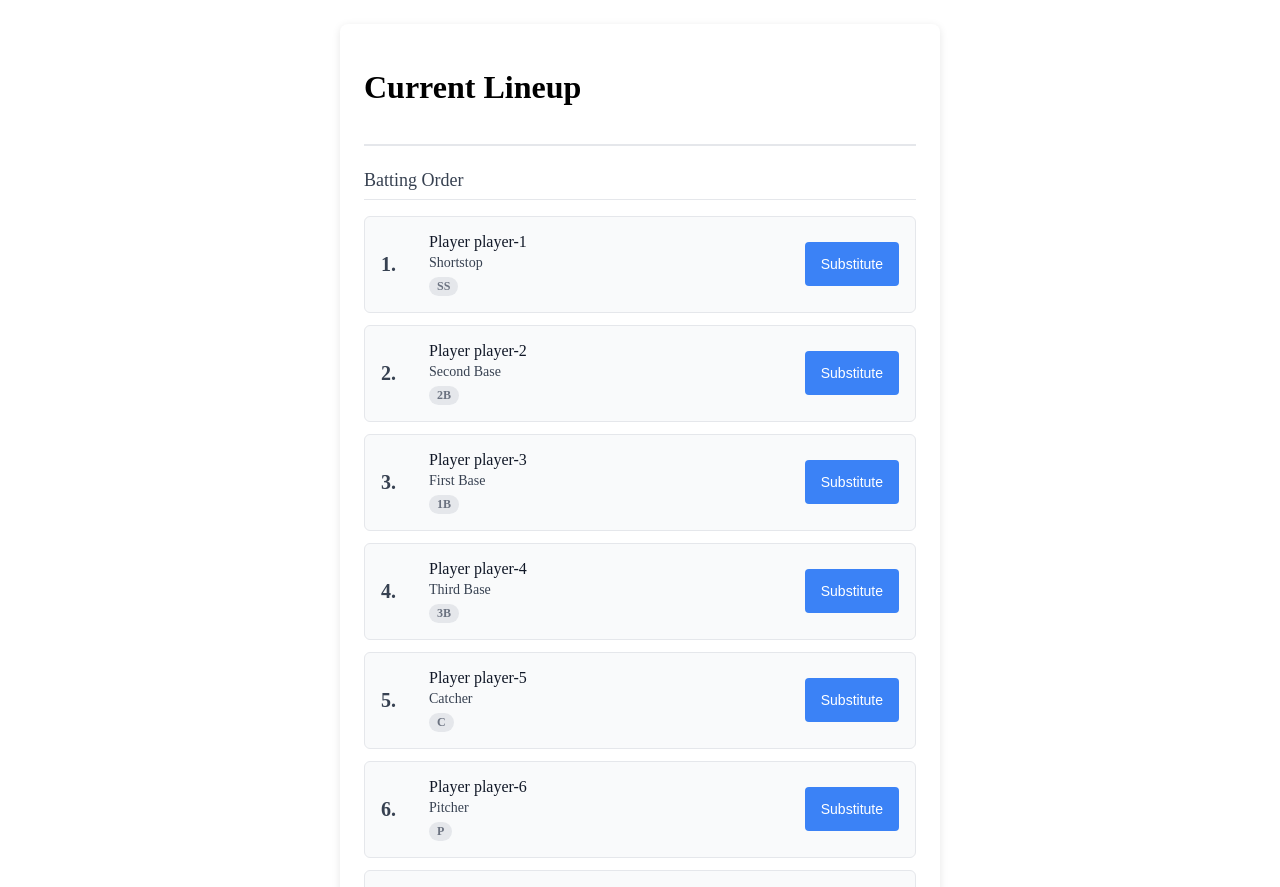
it: LineupEditor Component - TDD Implementation › Substitution Interactions › should open substitution dialog when substitute button clicked
Click the button "Substitute" in the row of "Shortstop" at (852, 264), box [805,242,899,286]
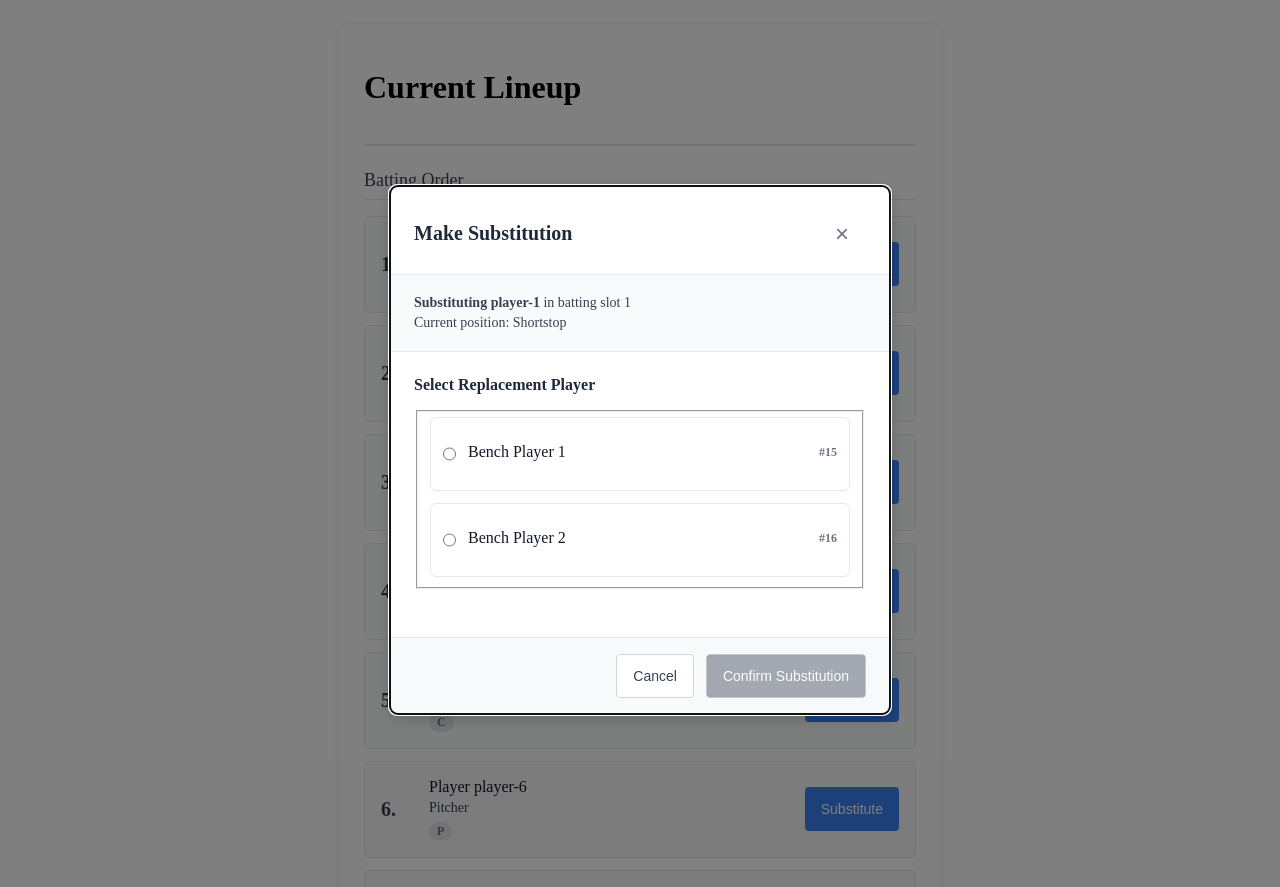
Result: the dialog is shown at [390,186,890,714]
